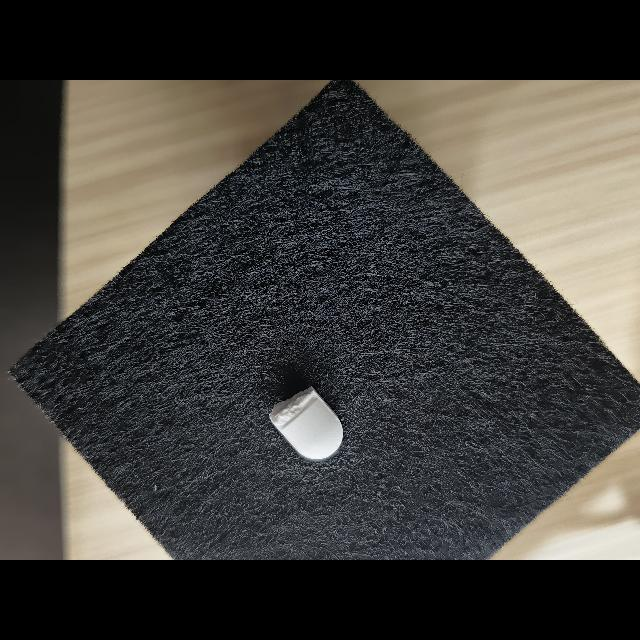Chipped Pill: (269, 386, 343, 459)
